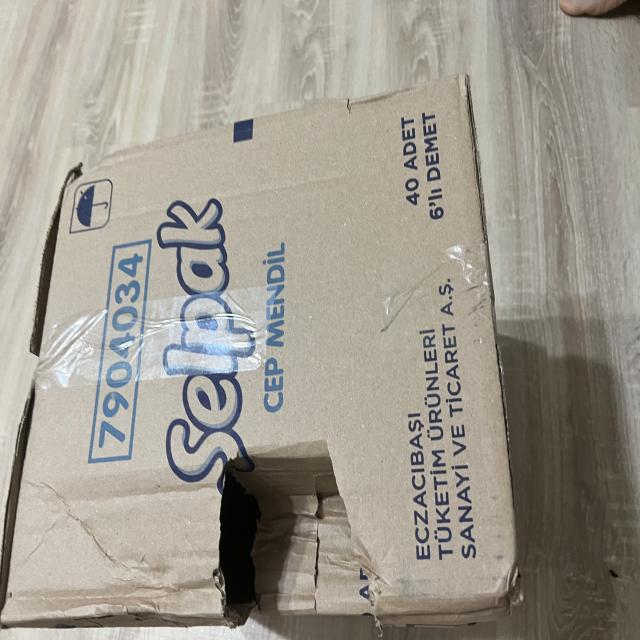damaged: (0, 66, 532, 632), (211, 435, 389, 640), (491, 552, 528, 622), (55, 164, 95, 187)
